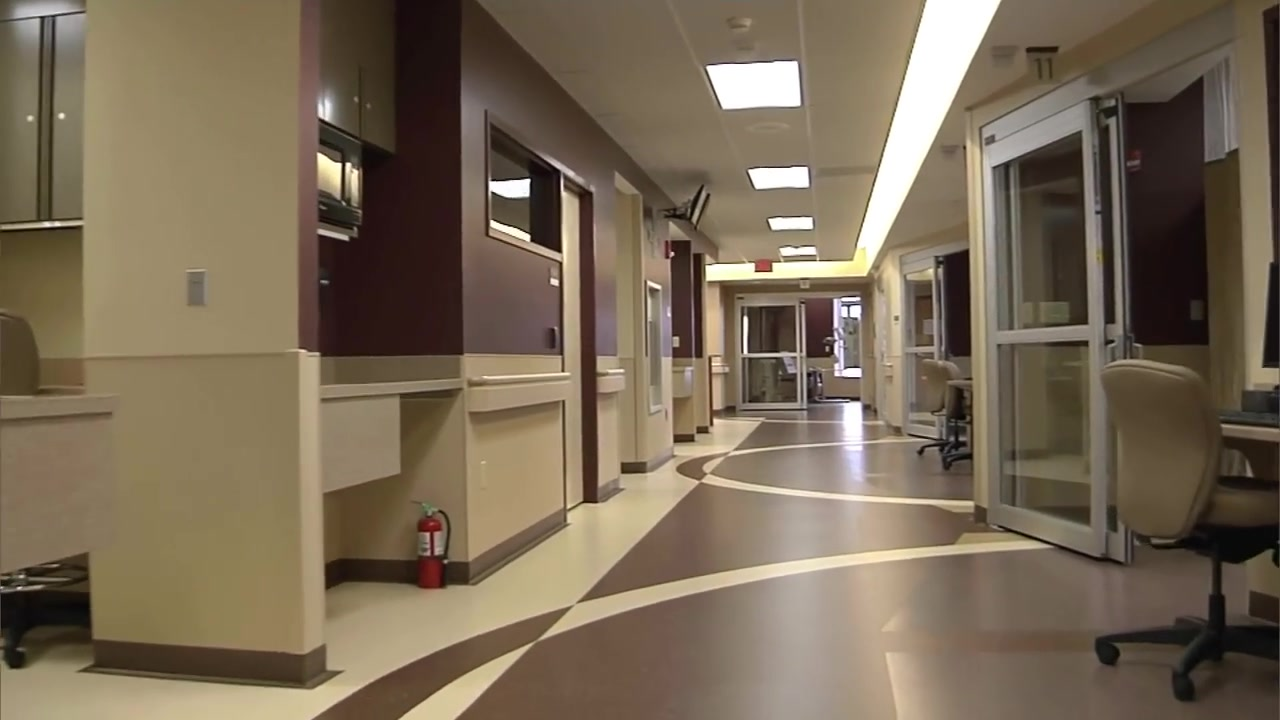TV: (312, 120, 369, 227), (689, 185, 715, 227)
cabinet: (1, 1, 98, 230)
chair: (1091, 360, 1273, 697), (2, 316, 92, 666), (915, 360, 981, 467), (767, 350, 829, 401)
computer: (1259, 275, 1280, 370)
counter: (1, 399, 124, 566), (315, 379, 439, 508)
countertop: (1, 393, 116, 422), (321, 378, 468, 398)
door_handle: (1124, 336, 1144, 365), (1100, 336, 1120, 365)
hallway_assist_bar: (470, 373, 575, 384), (595, 367, 629, 380)
handle: (55, 113, 67, 124), (24, 115, 36, 126)
keyboard: (1221, 409, 1280, 427)
